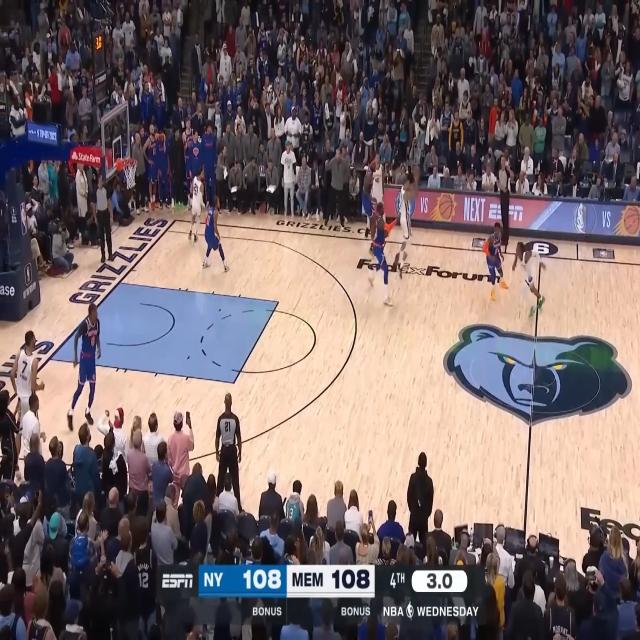Ball: (412, 165, 420, 178)
Hoop: (122, 158, 138, 190)
Player: (66, 304, 102, 431), (10, 329, 46, 431), (368, 202, 401, 308), (512, 241, 547, 318), (395, 164, 418, 280), (201, 194, 230, 274), (482, 221, 508, 300), (365, 152, 386, 237), (361, 157, 378, 255), (188, 166, 206, 243)
Ref: (214, 391, 242, 494), (92, 174, 116, 263), (497, 154, 514, 246)
